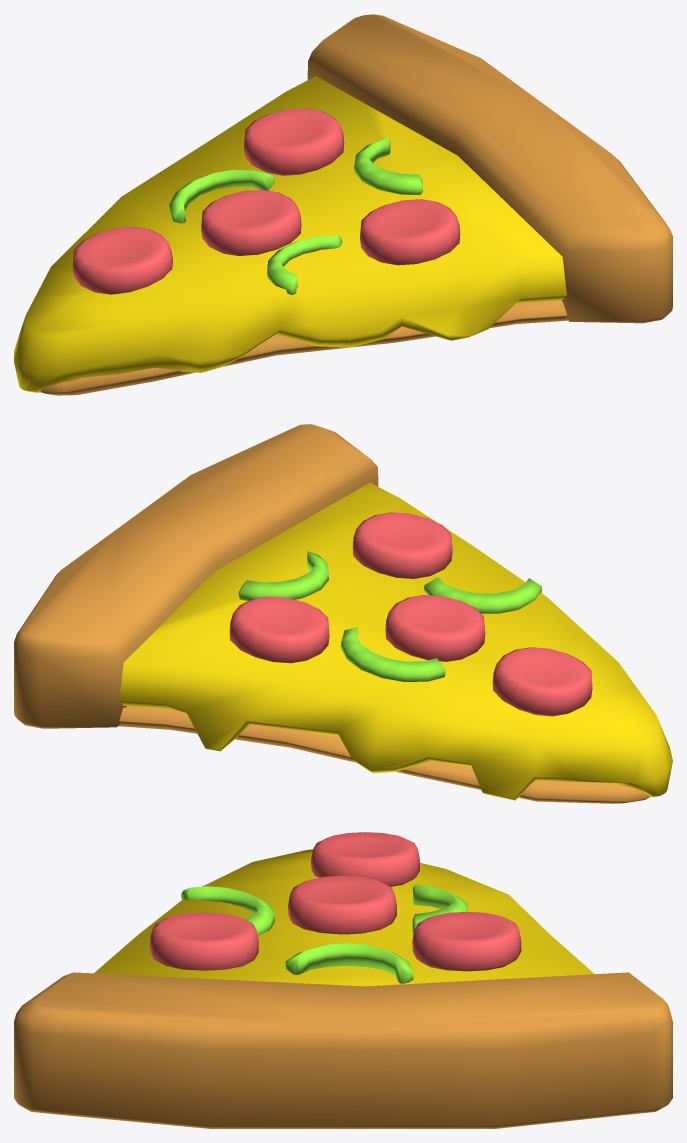
The model's file is SM_Pizza.fbx.
3 views of the same model, one above another, from view 1: azimuth 30°, elevation 25°; view 2: azimuth 150°, elevation 25°; view 3: azimuth 270°, elevation 25° (orthographic). The views are drawn at different scales.
Visible parts, largest first — view 1: SM_Pizza; view 2: SM_Pizza; view 3: SM_Pizza.
Part boxes in pixels (x1,y1,x2,y2): SM_Pizza: (14,14,672,395); SM_Pizza: (14,424,672,803); SM_Pizza: (14,832,672,1128).
Bounding box in the file's own units: 106 × 29.08 × 102.
